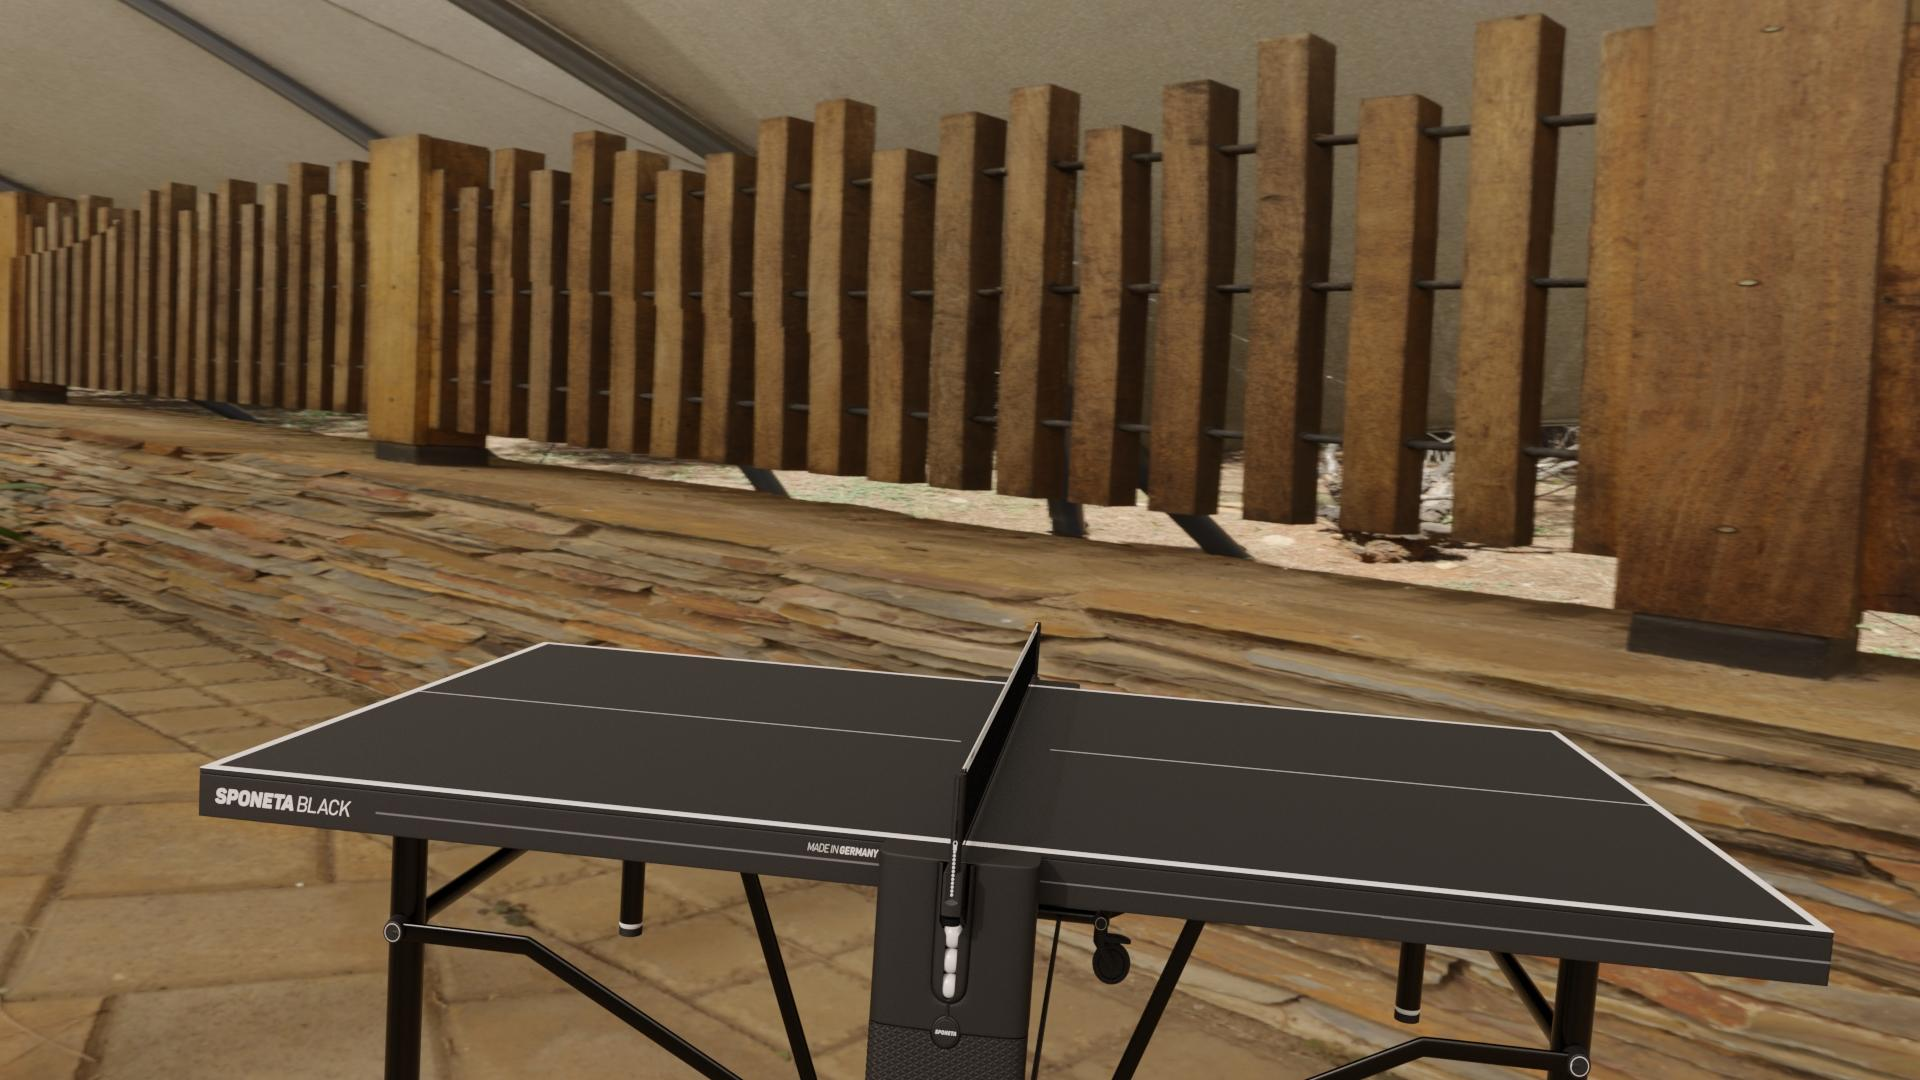table: (218, 644, 1815, 926)
